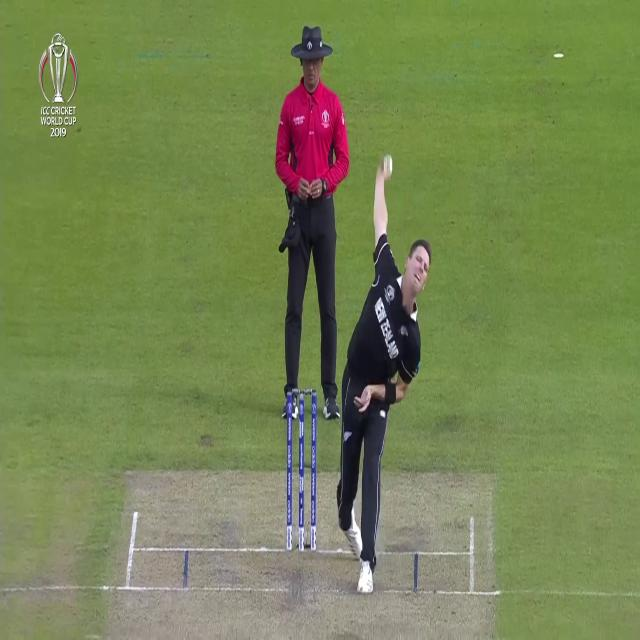ball: (382, 153, 394, 178)
